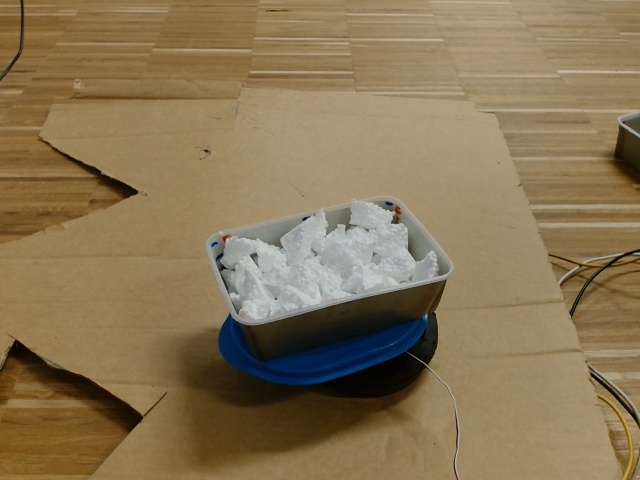Small_threequarter: (206, 195, 457, 328)
